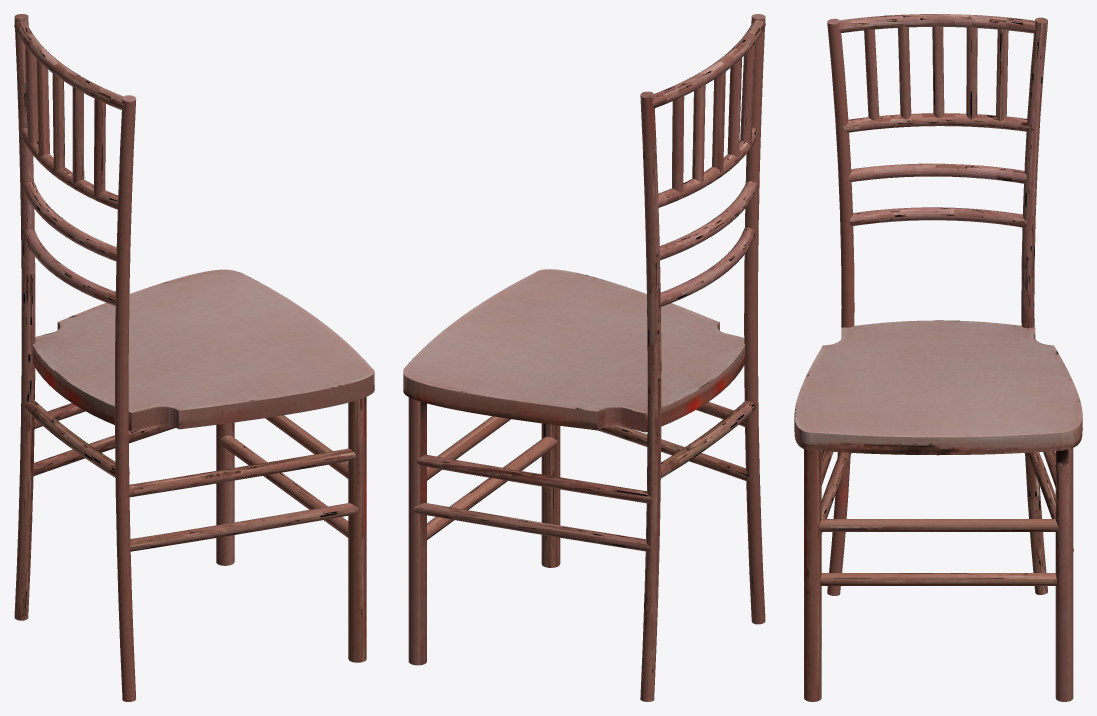
The picture shows the model from 3 angles, left to right: view 1: azimuth 30°, elevation 25°; view 2: azimuth 150°, elevation 25°; view 3: azimuth 270°, elevation 25°; orthographic projection. The views are drawn at different scales.
Visible parts, largest first — view 1: Node; view 2: Node; view 3: Node.
Boxes of the visible parts, <box> form: Node: <box>14,14,374,701</box>; Node: <box>403,14,765,701</box>; Node: <box>794,14,1082,701</box>.
Size of the model in its own units: 0.3186 by 0.7 by 0.3161.
1 material, 1 textured.
